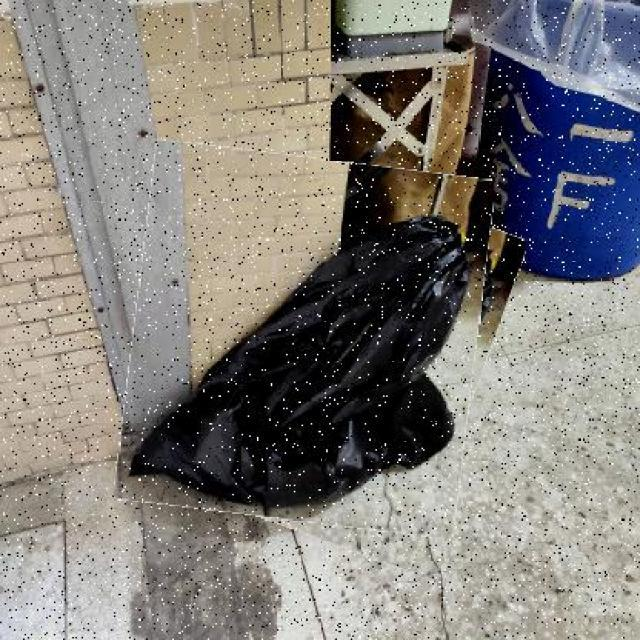waste: (124, 148, 487, 530), (184, 168, 503, 554)
